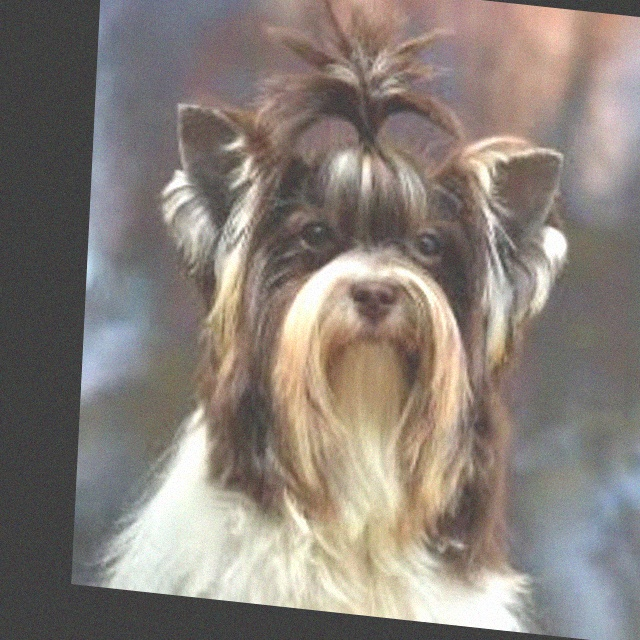dog: (137, 7, 617, 495)
